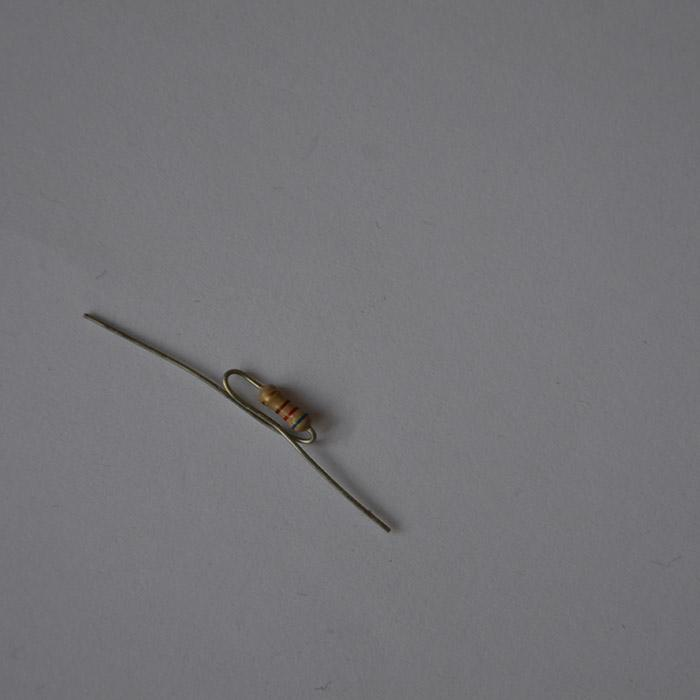resistor: (256, 383, 309, 433)
